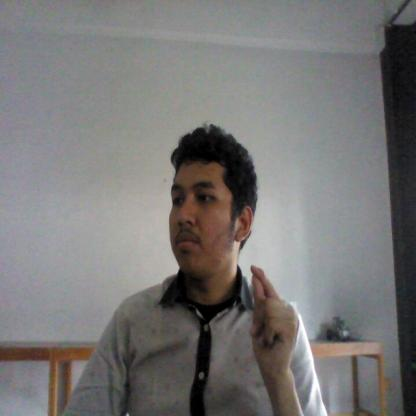R: (240, 260, 305, 377)
